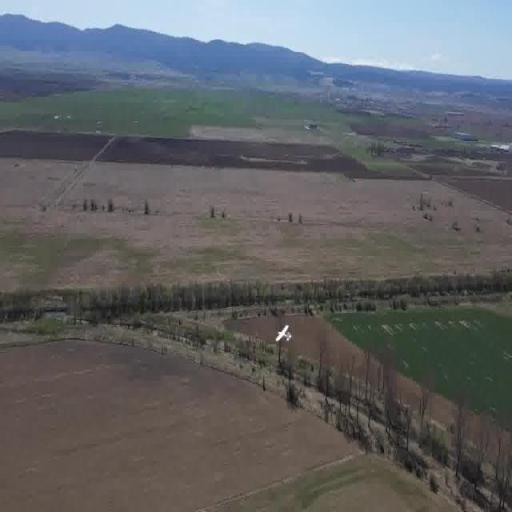uav: (274, 318, 294, 350)
